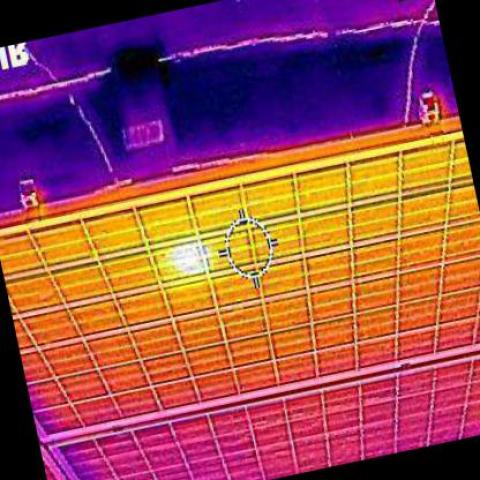fault: (167, 244, 214, 272)
